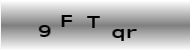9: (38, 23, 51, 38)
F: (60, 13, 74, 28)
T: (85, 14, 101, 29)
q: (110, 28, 126, 43)
r: (125, 27, 139, 39)
